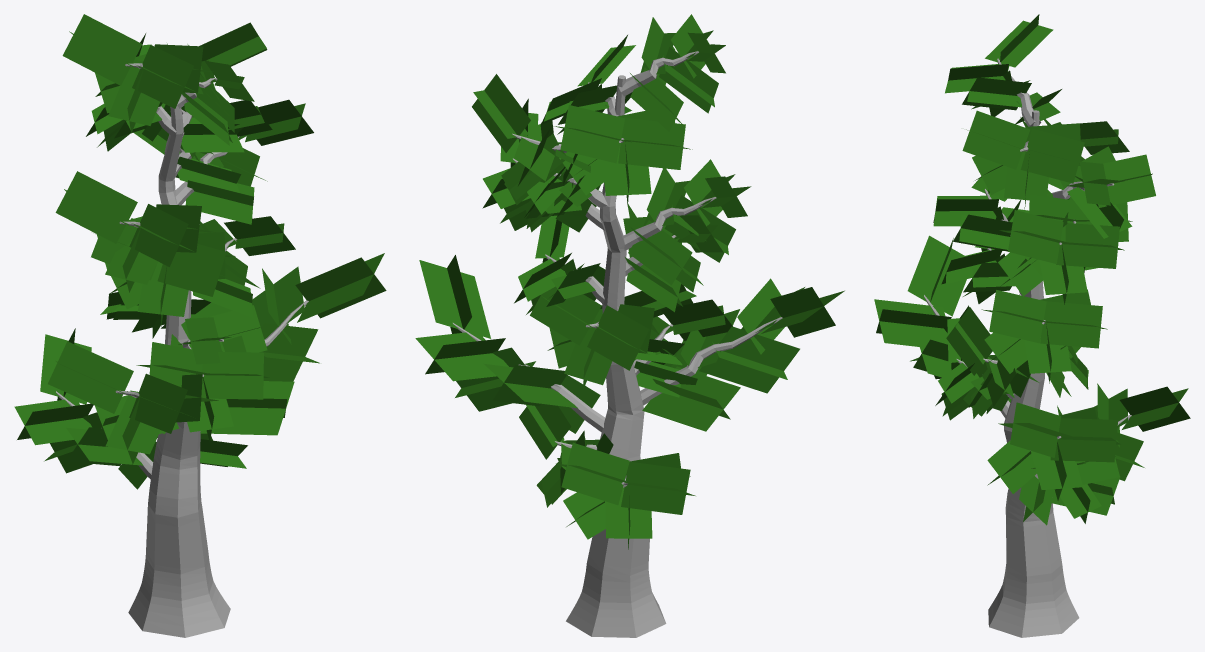
The model's file is TreeA12Sm.fbx.
The picture shows the model from 3 angles, left to right: view 1: azimuth 30°, elevation 25°; view 2: azimuth 150°, elevation 25°; view 3: azimuth 270°, elevation 25°; orthographic projection. The views are drawn at different scales.
Visible parts, largest first — view 1: TREEA12; view 2: TREEA12; view 3: TREEA12.
Boxes of the visible parts, x1,y1,x2,y2 form: TREEA12: [14, 14, 386, 637]; TREEA12: [415, 14, 844, 637]; TREEA12: [874, 14, 1190, 637].
Bounding box in the file's own units: 2.79 × 4.35 × 2.22.
